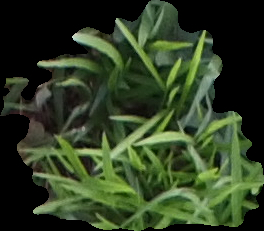grass: (1, 1, 262, 229)
